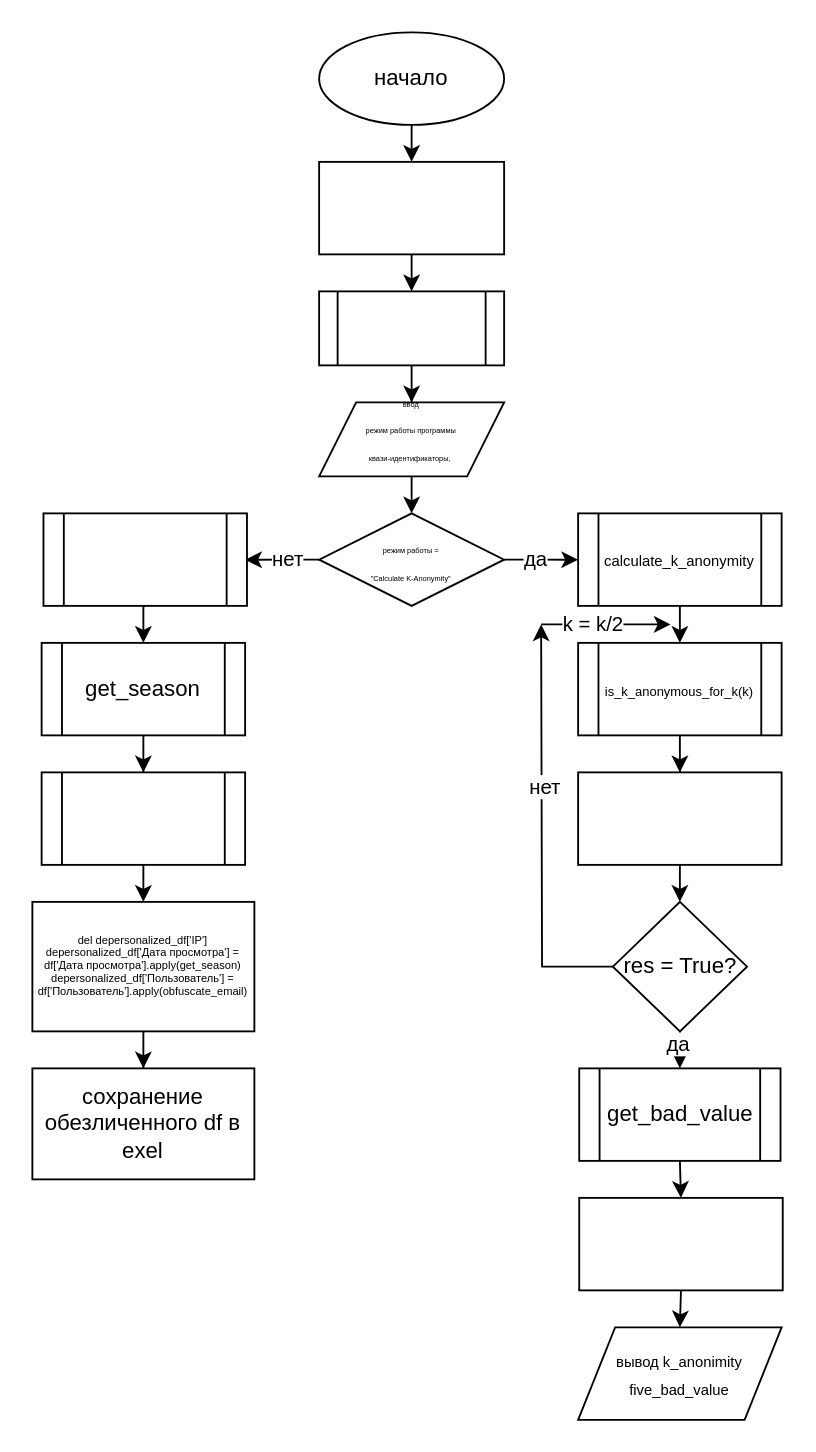
The diagram is 816 pixels wide and 1452 high, and some of its shapes have lost their labels. Here are the shapes that lost their labels. From the top down, the centre of each, then its label:
point (410, 207): data = readexel("filename") df = DataFrame(data) depersonalized_df = df.copy()
point (410, 327): def start_processing()
point (144, 559): anonymize_dataset
point (142, 818): obfuscate_email
point (679, 818): res = is_k_anonymous_for_k(k)
point (680, 1243): five_bad = get_bad_value
